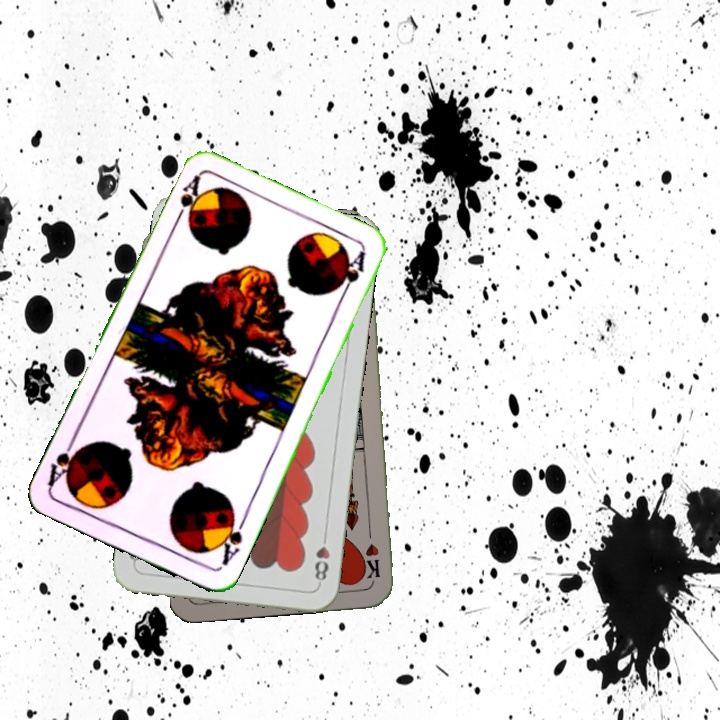H8: (310, 528, 332, 587)
HK: (360, 523, 383, 581)
SA: (213, 509, 249, 569), (170, 171, 205, 227)
